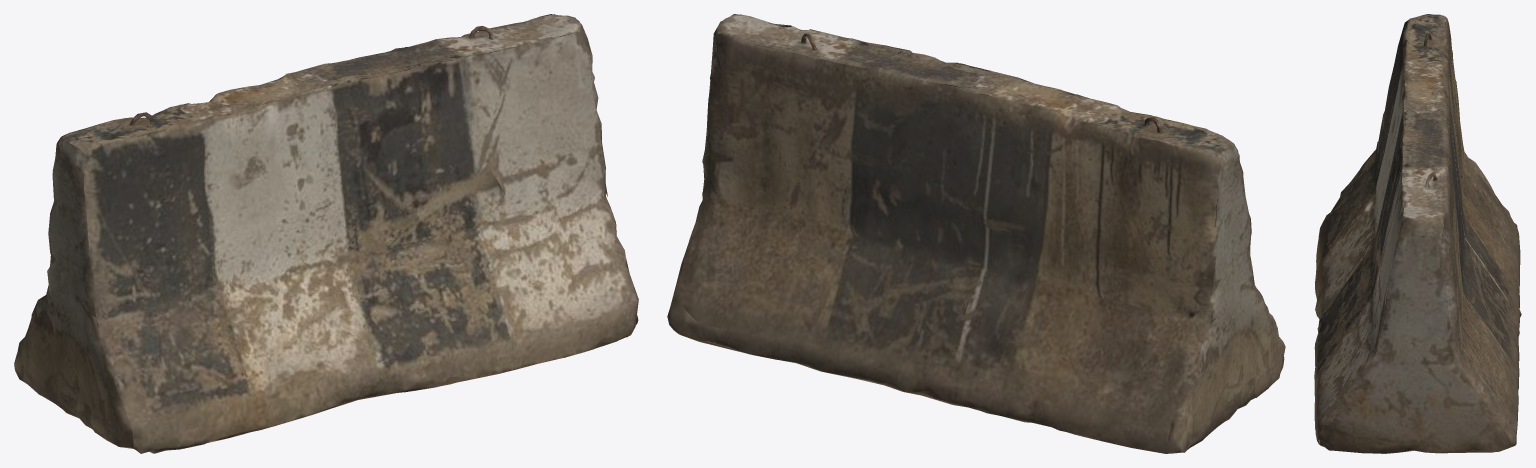
File: concrete_road_barrier.glb
3 renders of one model, left to right at view 1: azimuth 30°, elevation 25°; view 2: azimuth 150°, elevation 25°; view 3: azimuth 270°, elevation 25°, orthographic. The views are drawn at different scales.
Parts seen in each view (by area): view 1: concrete_road_barrier; view 2: concrete_road_barrier; view 3: concrete_road_barrier.
Boxes of the visible parts, x1=… form: concrete_road_barrier: x1=14, y1=14, x2=638, y2=453; concrete_road_barrier: x1=667, y1=14, x2=1285, y2=453; concrete_road_barrier: x1=1314, y1=14, x2=1521, y2=453.
Size of the model in its own units: 1.54 by 0.8328 by 0.6358.
1 material, 1 textured.
